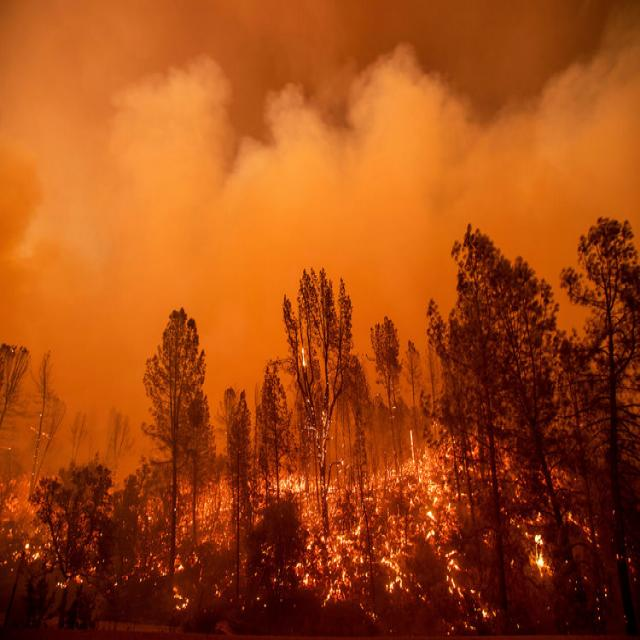Fire: (8, 435, 605, 629)
Smoke: (6, 5, 635, 485)
